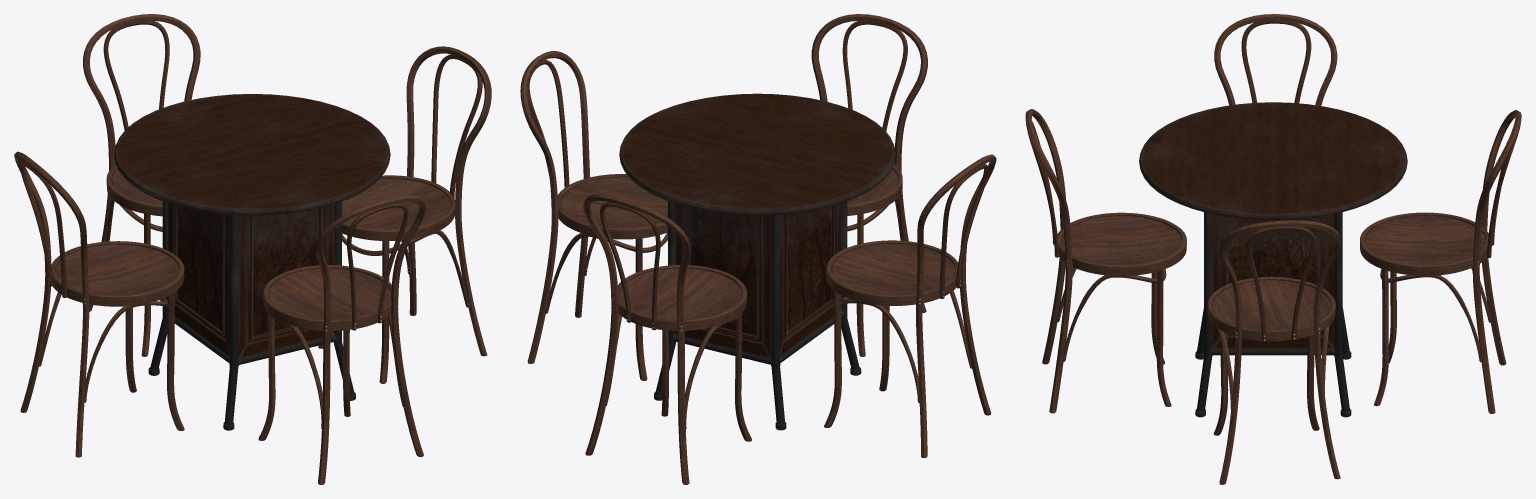
Rendered from table_4.glb.
3 views of the same model, side by side, from view 1: azimuth 30°, elevation 25°; view 2: azimuth 150°, elevation 25°; view 3: azimuth 270°, elevation 25° (orthographic). The views are drawn at different scales.
Parts seen in each view (by area): view 1: round_wooden_table_02_0_n0, bentwood_chair_2_n2, bentwood_chair_2_n3, bentwood_chair_2_n4, bentwood_chair_0_n3, bentwood_chair_0_n2, bentwood_chair_2_n1, bentwood_chair_0_n4, bentwood_chair_1_n3, bentwood_chair_1_n2, bentwood_chair_1_n4, bentwood_chair_3_n4 (+5 smaller); view 2: round_wooden_table_02_0_n0, bentwood_chair_2_n1, bentwood_chair_2_n3, bentwood_chair_2_n4, bentwood_chair_0_n3, bentwood_chair_0_n1, bentwood_chair_2_n2, bentwood_chair_0_n4, bentwood_chair_1_n3, bentwood_chair_1_n1, bentwood_chair_1_n4, bentwood_chair_3_n3 (+5 smaller); view 3: round_wooden_table_02_0_n0, bentwood_chair_2_n4, bentwood_chair_2_n1, bentwood_chair_2_n2, bentwood_chair_0_n2, bentwood_chair_0_n1, bentwood_chair_0_n4, bentwood_chair_1_n2, bentwood_chair_1_n1, bentwood_chair_1_n4, bentwood_chair_2_n3, bentwood_chair_3_n4 (+3 smaller).
Part boxes in pixels (left/top/right/bottom): round_wooden_table_02_0_n0: left=114, top=94, right=390, bottom=430; bentwood_chair_2_n2: left=258, top=195, right=425, bottom=484; bentwood_chair_2_n3: left=14, top=151, right=184, bottom=457; bentwood_chair_2_n4: left=318, top=46, right=491, bottom=383; bentwood_chair_0_n3: left=55, top=244, right=179, bottom=294; bentwood_chair_0_n2: left=268, top=268, right=390, bottom=319; bentwood_chair_2_n1: left=83, top=14, right=200, bottom=356; bentwood_chair_0_n4: left=342, top=179, right=450, bottom=229; bentwood_chair_1_n3: left=51, top=241, right=184, bottom=306; bentwood_chair_1_n2: left=263, top=265, right=391, bottom=330; bentwood_chair_1_n4: left=342, top=175, right=455, bottom=240; bentwood_chair_3_n4: left=431, top=54, right=482, bottom=197; round_wooden_table_02_0_n0: left=619, top=93, right=895, bottom=430; bentwood_chair_2_n1: left=583, top=194, right=751, bottom=484; bentwood_chair_2_n3: left=824, top=154, right=996, bottom=457; bentwood_chair_2_n4: left=520, top=51, right=667, bottom=380; bentwood_chair_0_n3: left=831, top=244, right=955, bottom=294; bentwood_chair_0_n1: left=619, top=268, right=741, bottom=319; bentwood_chair_2_n2: left=811, top=14, right=927, bottom=356; bentwood_chair_0_n4: left=561, top=177, right=667, bottom=227; bentwood_chair_1_n3: left=826, top=240, right=958, bottom=305; bentwood_chair_1_n1: left=617, top=265, right=746, bottom=330; bentwood_chair_1_n4: left=557, top=174, right=667, bottom=239; bentwood_chair_3_n3: left=939, top=164, right=988, bottom=298; round_wooden_table_02_0_n0: left=1139, top=102, right=1407, bottom=417; bentwood_chair_2_n4: left=1213, top=220, right=1341, bottom=484; bentwood_chair_2_n1: left=1374, top=110, right=1521, bottom=413; bentwood_chair_2_n2: left=1025, top=109, right=1171, bottom=413; bentwood_chair_0_n2: left=1061, top=216, right=1181, bottom=264; bentwood_chair_0_n1: left=1365, top=216, right=1485, bottom=264; bentwood_chair_0_n4: left=1212, top=280, right=1330, bottom=329; bentwood_chair_1_n2: left=1057, top=212, right=1186, bottom=275; bentwood_chair_1_n1: left=1360, top=212, right=1488, bottom=275; bentwood_chair_1_n4: left=1207, top=276, right=1335, bottom=341; bentwood_chair_2_n3: left=1214, top=14, right=1337, bottom=105; bentwood_chair_3_n4: left=1246, top=226, right=1315, bottom=342.
Size of the model in its own units: 1.47 by 0.8796 by 1.47.
3 materials, 2 textured.
